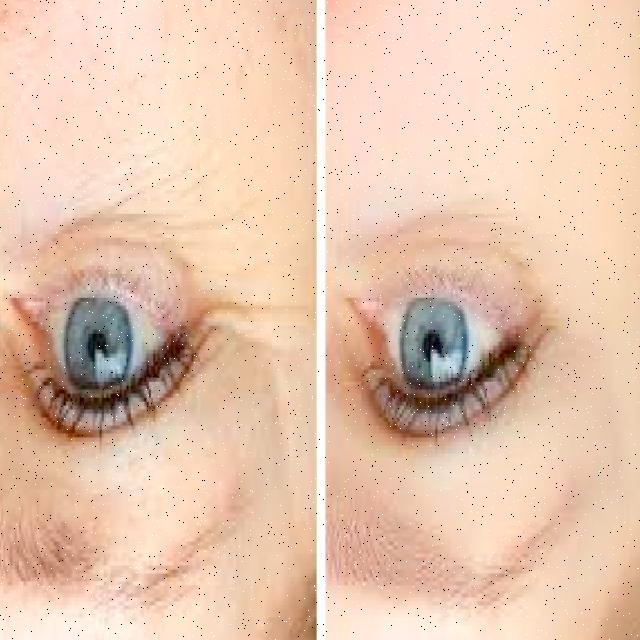puffy_eyes: (18, 156, 252, 283), (359, 195, 556, 291)
